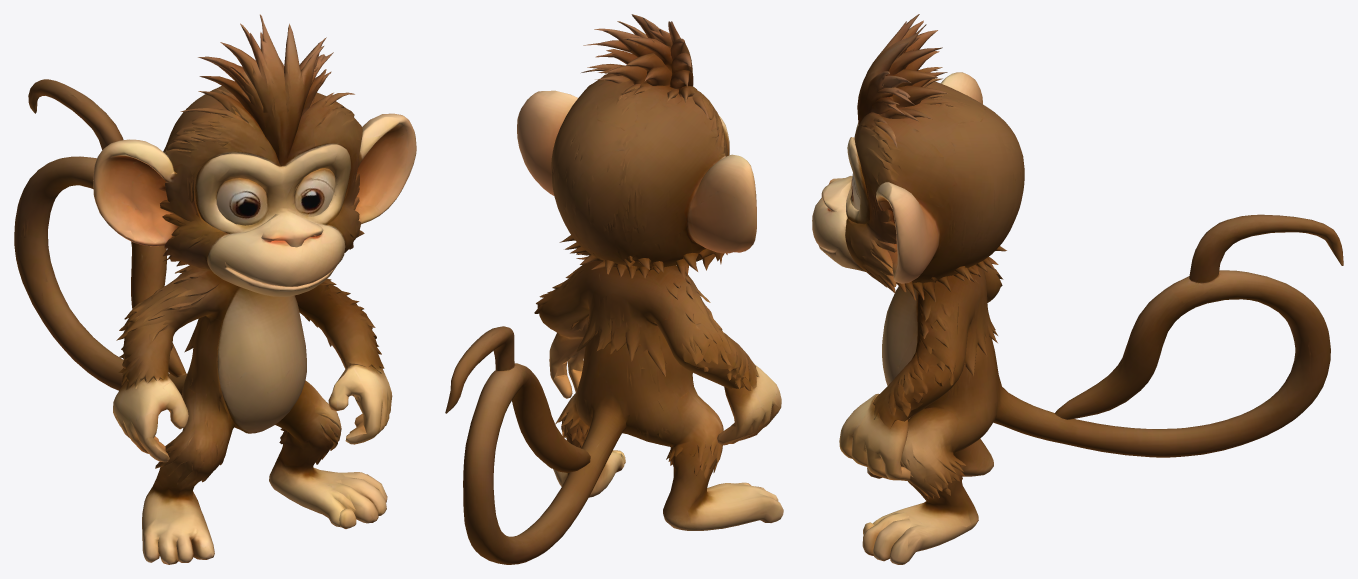
File: m2JungleMonkey.glb
The picture shows the model from 3 angles, left to right: view 1: azimuth 30°, elevation 25°; view 2: azimuth 150°, elevation 25°; view 3: azimuth 270°, elevation 25°; orthographic projection. The views are drawn at different scales.
Visible parts, largest first — view 1: model; view 2: model; view 3: model.
Boxes of the visible parts, x1=… form: model: x1=14, y1=14, x2=416, y2=564; model: x1=445, y1=14, x2=783, y2=564; model: x1=812, y1=14, x2=1343, y2=564.
Bounding box in the file's own units: 1.12 × 1.9 × 1.87.
1 material, 1 textured.
